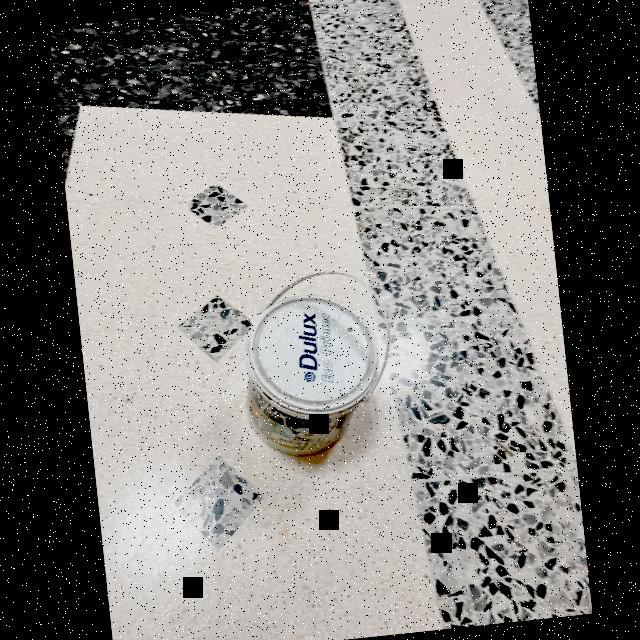paint_bucket: (220, 245, 416, 468)
